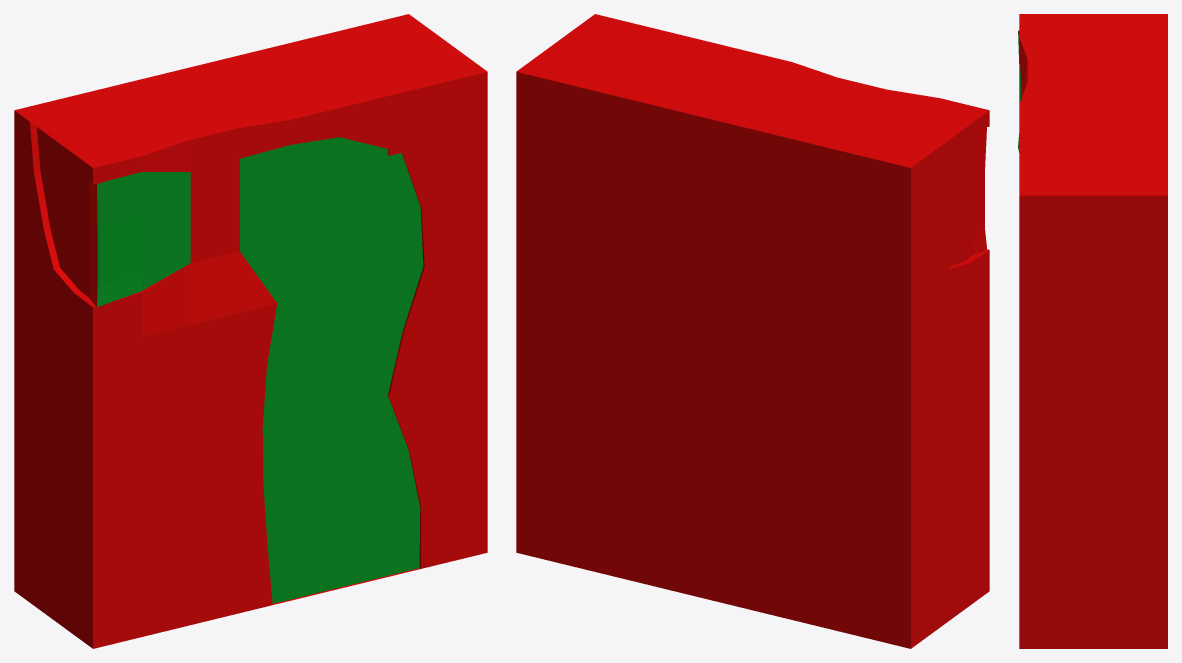
File: VinesWall.FBX
3 views of the same model, side by side, from view 1: azimuth 30°, elevation 25°; view 2: azimuth 150°, elevation 25°; view 3: azimuth 270°, elevation 25° (orthographic). The views are drawn at different scales.
Parts seen in each view (by area): view 1: VinesWall; view 2: VinesWall; view 3: VinesWall.
Boxes of the visible parts, box(x1,y1,x2,y2) form: VinesWall: box(14, 14, 487, 648); VinesWall: box(516, 14, 989, 648); VinesWall: box(1018, 14, 1167, 648).
Size of the model in its own units: 1162 by 1353 by 405.
